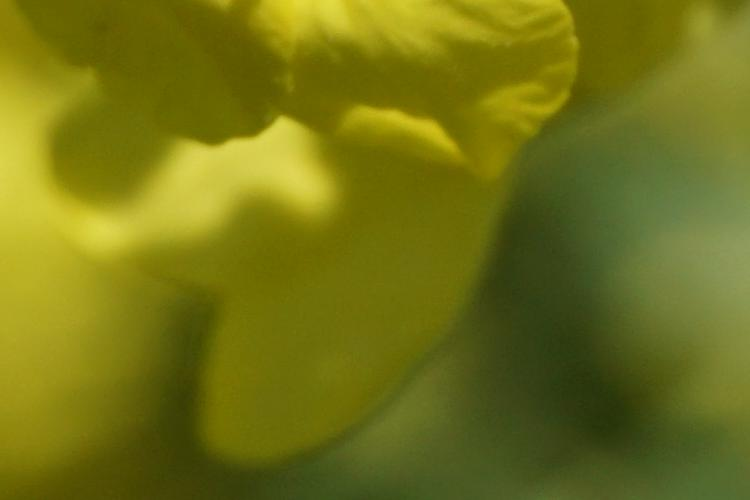yellow: (74, 14, 607, 159)
